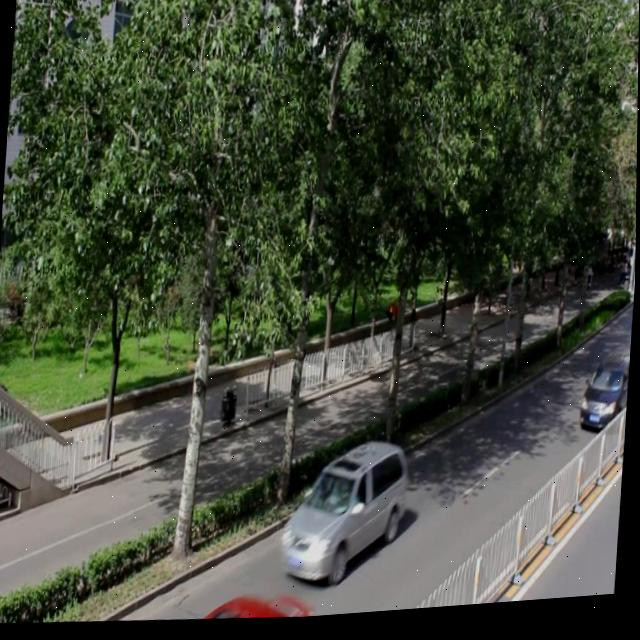car: (278, 439, 409, 592), (579, 358, 631, 438)
